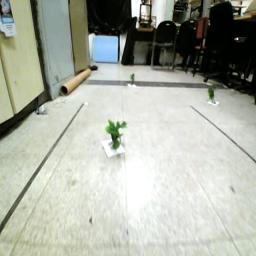herb: (105, 119, 130, 150), (209, 86, 220, 106), (131, 75, 138, 85)
